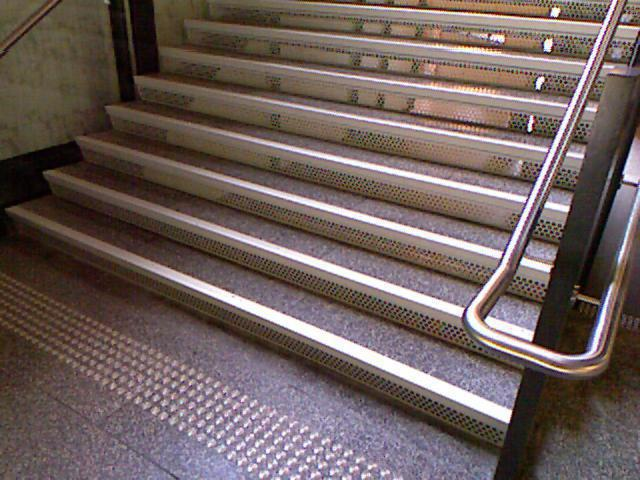Escaleras: (12, 12, 639, 479)
